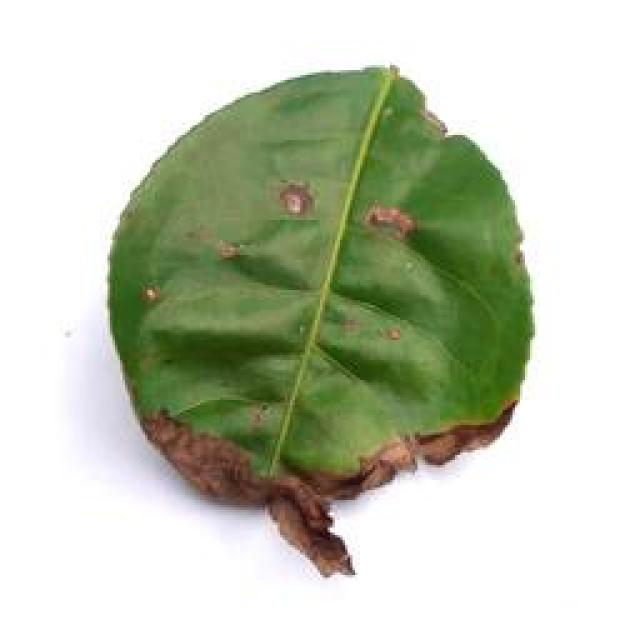Brown Blight: (93, 48, 544, 586)
